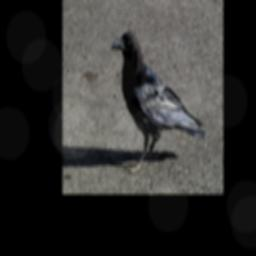Crow: (110, 29, 206, 172)
